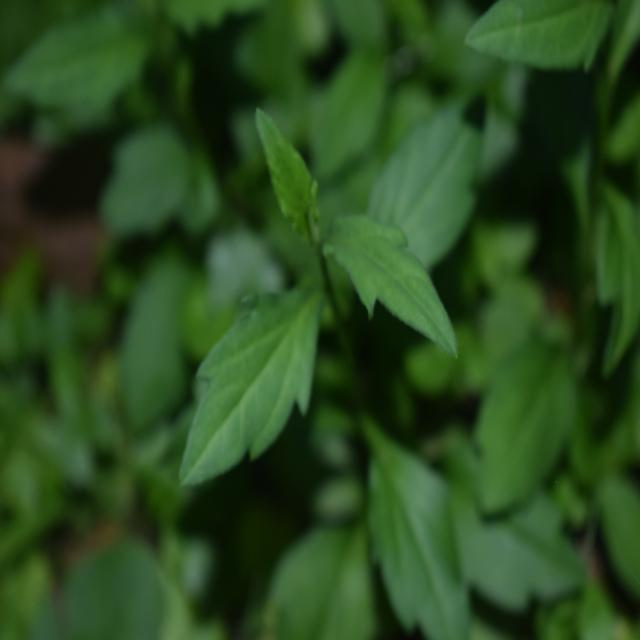Indian aster: (179, 134, 504, 606)
